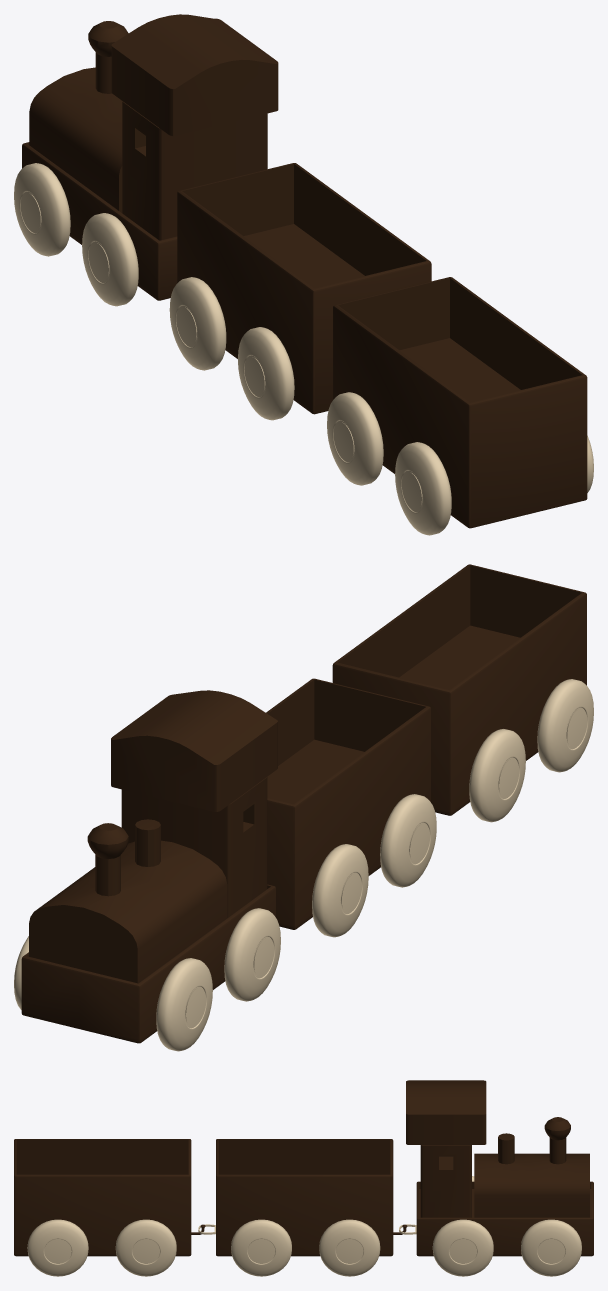
File: tren.glb
3 renders of one model, top to bottom at view 1: azimuth 30°, elevation 25°; view 2: azimuth 150°, elevation 25°; view 3: azimuth 270°, elevation 25°, orthographic. The views are drawn at different scales.
Parts seen in each view (by area): view 1: carriage, carriage.002, carriage.001, tire-1.004, tire-1.002, tire-1.003, tire-1.005, tire-1.009, tire-1.008; view 2: carriage.002, carriage, carriage.001, tire-1.009, tire-1.002, tire-1.003, tire-1.005, tire-1.004, tire-1.008; view 3: carriage.002, carriage.001, carriage, tire-1.006, tire-1, tire-1.007, tire-1.010, tire-1.001, tire-1.011.
Boxes of the visible parts, left/top/right/bottom form: carriage: left=333, top=277, right=587, bottom=528; carriage.002: left=22, top=14, right=278, bottom=300; carriage.001: left=177, top=163, right=431, bottom=414; tire-1.004: left=395, top=442, right=451, bottom=535; tire-1.002: left=169, top=277, right=226, bottom=370; tire-1.003: left=238, top=327, right=294, bottom=420; tire-1.005: left=327, top=392, right=383, bottom=485; tire-1.009: left=14, top=163, right=70, bottom=256; tire-1.008: left=82, top=213, right=138, bottom=306; carriage.002: left=21, top=690, right=277, bottom=1043; carriage: left=332, top=564, right=586, bottom=815; carriage.001: left=266, top=678, right=430, bottom=929; tire-1.009: left=156, top=958, right=212, bottom=1051; tire-1.002: left=312, top=844, right=368, bottom=937; tire-1.003: left=380, top=794, right=436, bottom=887; tire-1.005: left=469, top=729, right=525, bottom=822; tire-1.004: left=537, top=679, right=593, bottom=772; tire-1.008: left=224, top=908, right=280, bottom=1001; carriage.002: left=406, top=1080, right=593, bottom=1256; carriage.001: left=216, top=1139, right=407, bottom=1256; carriage: left=14, top=1139, right=205, bottom=1256; tire-1.006: left=27, top=1219, right=88, bottom=1276; tire-1: left=319, top=1219, right=380, bottom=1276; tire-1.007: left=115, top=1219, right=176, bottom=1276; tire-1.010: left=432, top=1219, right=493, bottom=1276; tire-1.001: left=231, top=1219, right=291, bottom=1276; tire-1.011: left=521, top=1219, right=581, bottom=1276.
Size of the model in its own units: 0.0992 by 0.1454 by 0.4631.
Materials: 2 (1 with a texture image).
